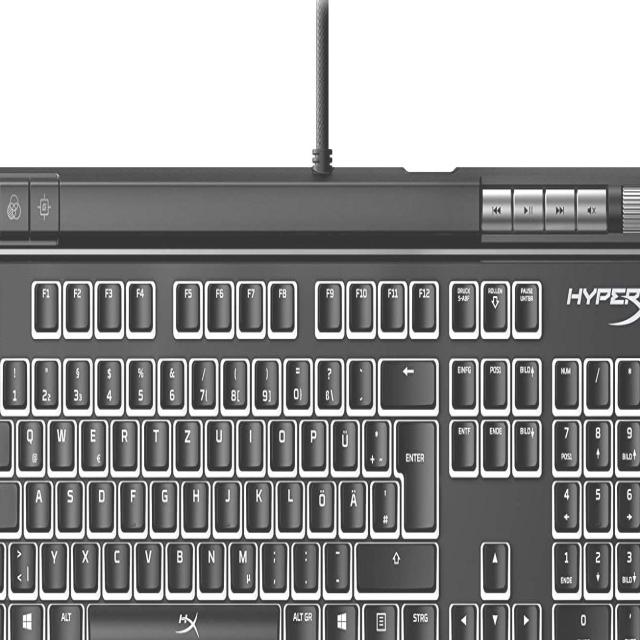0: (283, 353, 310, 408)
1: (0, 353, 26, 404)
2: (31, 353, 58, 407)
3: (63, 353, 90, 407)
4: (95, 353, 121, 406)
5: (125, 353, 153, 407)
6: (158, 354, 186, 407)
7: (189, 353, 216, 407)
8: (220, 353, 248, 409)
9: (251, 353, 279, 409)
a: (23, 475, 51, 529)
accent: (346, 353, 372, 406)
ae: (338, 474, 365, 529)
alt-left: (46, 597, 83, 640)
altgr-right: (282, 597, 319, 640)
b: (165, 537, 192, 588)
c: (102, 537, 130, 588)
caret: (0, 354, 13, 405)
comma: (259, 536, 286, 590)
d: (86, 475, 113, 529)
del: (378, 353, 435, 405)
e: (79, 414, 106, 468)
enter: (392, 411, 435, 528)
f: (118, 475, 144, 528)
g: (149, 475, 176, 528)
h: (180, 475, 207, 528)
hash: (369, 475, 396, 529)
i: (236, 415, 263, 466)
j: (212, 475, 239, 529)
k: (244, 475, 271, 529)
keyboard: (0, 232, 640, 640)
l: (274, 475, 302, 528)
less: (7, 536, 35, 590)
m: (227, 536, 256, 590)
minus: (321, 537, 349, 589)
n: (196, 537, 224, 589)
o: (267, 414, 294, 467)
oe: (306, 475, 334, 529)
p: (299, 414, 326, 467)
plus: (361, 414, 388, 468)
point: (291, 537, 318, 589)
q: (15, 414, 43, 468)
r: (110, 415, 137, 467)
s: (54, 475, 82, 528)
shift-left: (0, 536, 17, 588)
shift-lock: (0, 475, 25, 529)
shift-right: (353, 537, 436, 590)
space: (84, 598, 282, 640)
ss: (314, 353, 342, 408)
strg-left: (0, 596, 18, 640)
strg-right: (400, 596, 437, 640)
t: (142, 414, 168, 466)
tab: (0, 415, 21, 466)
u: (204, 415, 231, 468)
ue: (330, 414, 357, 468)
v: (134, 536, 161, 588)
w: (47, 414, 74, 468)
x: (71, 537, 98, 589)
y: (39, 537, 66, 588)
z: (173, 414, 199, 467)
